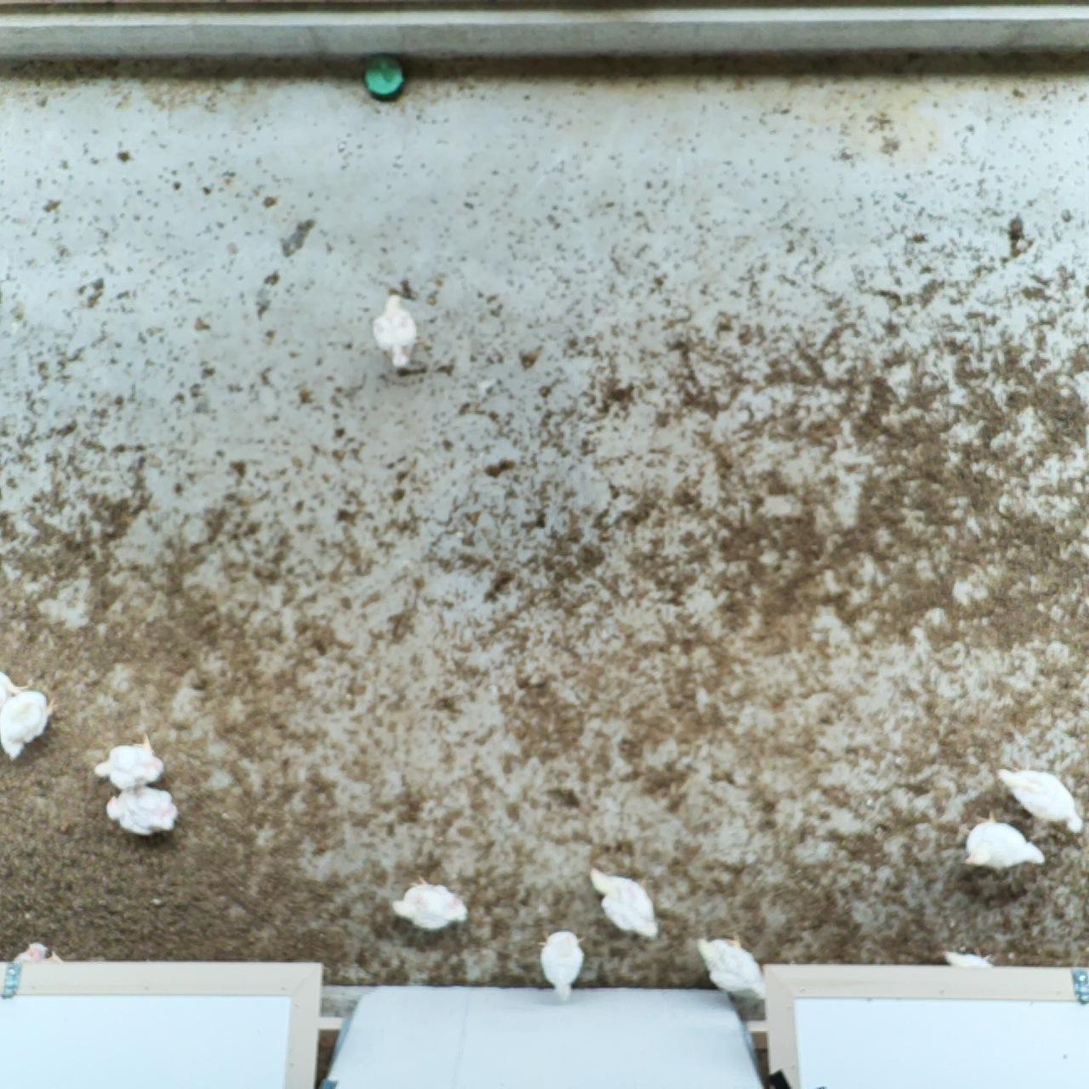chicken: (995, 768, 1088, 836), (696, 929, 772, 1002), (588, 869, 661, 939), (962, 810, 1047, 868), (390, 873, 469, 929), (0, 689, 63, 759), (538, 927, 589, 1004), (94, 734, 165, 789), (373, 294, 419, 370), (106, 787, 180, 834), (0, 671, 35, 706), (944, 949, 1000, 970)
